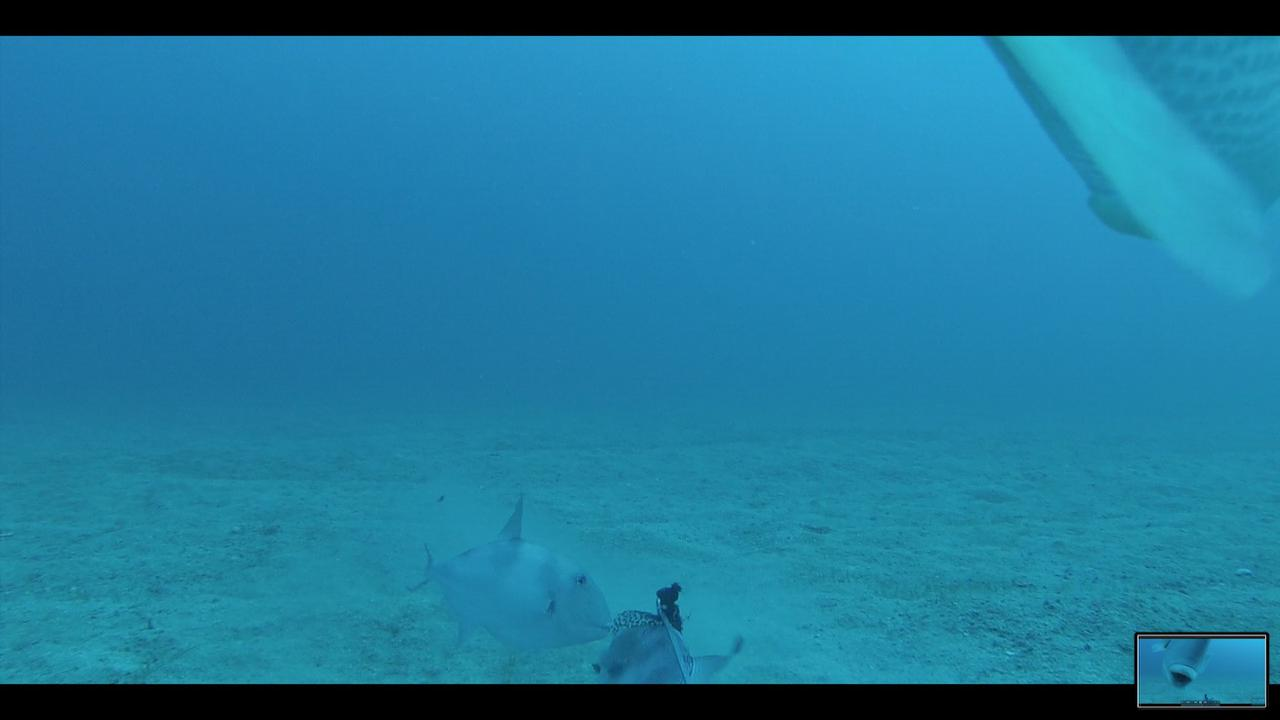balistes: (401, 490, 615, 650)
